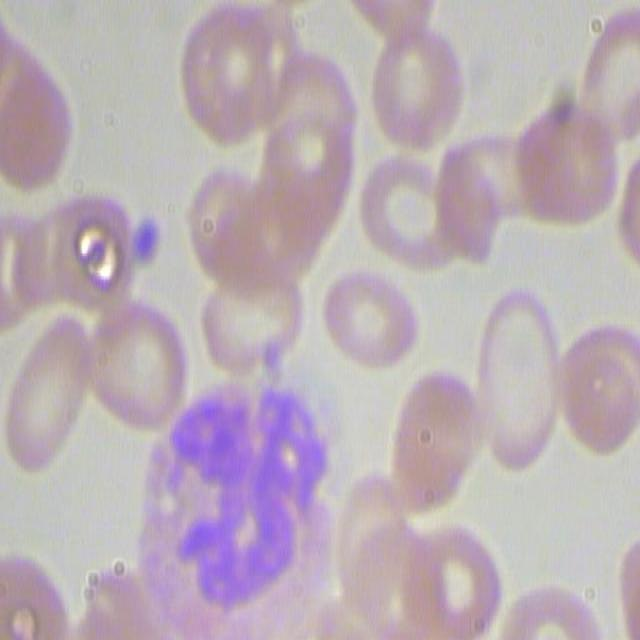RBC: (175, 0, 296, 151), (473, 286, 567, 477), (255, 58, 356, 230), (11, 187, 139, 321), (493, 101, 620, 235), (334, 467, 432, 640), (80, 288, 188, 438), (376, 371, 482, 512), (362, 10, 464, 151), (362, 141, 464, 282), (0, 19, 73, 213), (177, 158, 299, 274), (14, 318, 102, 475), (198, 263, 308, 381), (400, 522, 509, 640), (551, 322, 640, 451), (320, 261, 419, 372), (434, 134, 512, 273), (524, 554, 640, 640), (571, 2, 640, 144), (77, 549, 173, 640), (0, 546, 69, 638)
WBC: (150, 356, 338, 640)
platelets: (123, 208, 163, 277)
